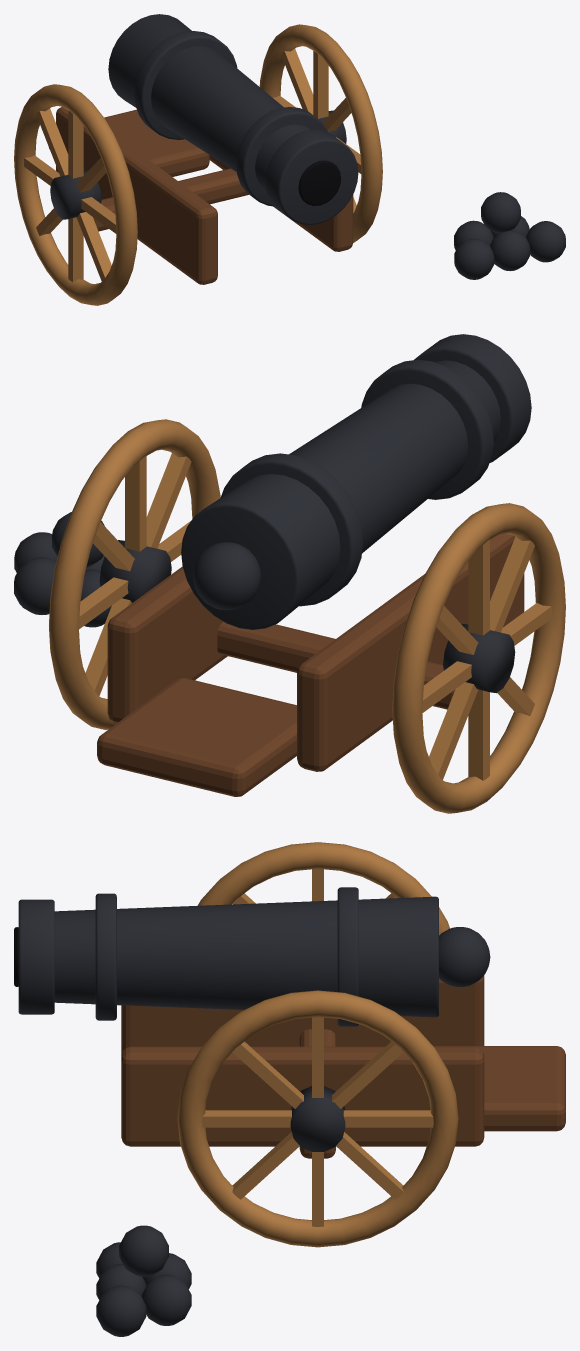
Rendered from cannon.glb.
3 views of the same model, one above another, from view 1: azimuth 30°, elevation 25°; view 2: azimuth 150°, elevation 25°; view 3: azimuth 270°, elevation 25° (orthographic). The views are drawn at different scales.
Visible parts, largest first — view 1: barrel, wheelR, carriage, wheelL, balls; view 2: barrel, carriage, wheelR, wheelL, balls; view 3: barrel, carriage, wheelL, balls, wheelR.
Part boxes in pixels (x1,y1,x2,y2): barrel: [108, 14, 358, 224]; wheelR: [14, 84, 137, 305]; carriage: [49, 107, 353, 284]; wheelL: [259, 24, 382, 242]; balls: [454, 192, 565, 279]; barrel: [181, 334, 531, 629]; carriage: [97, 533, 524, 796]; wheelR: [392, 503, 565, 813]; wheelL: [49, 419, 220, 729]; balls: [14, 512, 111, 627]; barrel: [14, 887, 490, 1026]; carriage: [121, 975, 565, 1158]; wheelL: [177, 990, 458, 1247]; balls: [96, 1225, 191, 1336]; wheelR: [197, 842, 449, 935].
Bounding box in the file's own units: 2 × 1.01 × 1.83.
